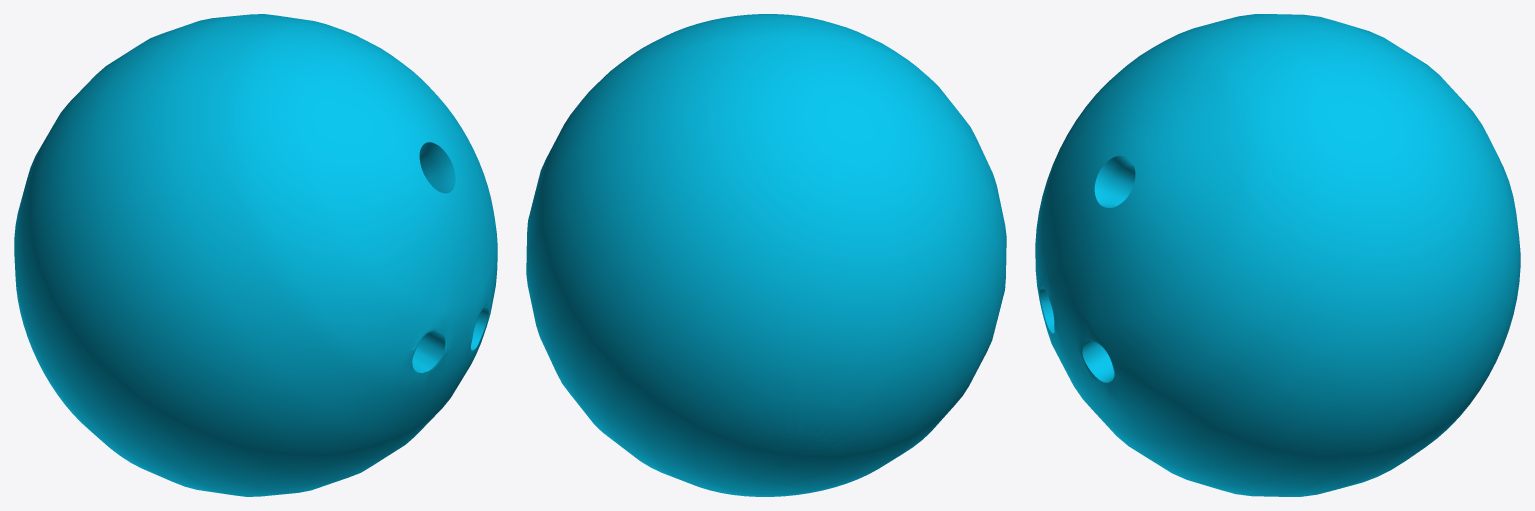
The model's file is Ball.FBX.
The picture shows the model from 3 angles, left to right: view 1: azimuth 30°, elevation 25°; view 2: azimuth 150°, elevation 25°; view 3: azimuth 270°, elevation 25°; orthographic projection.
Visible parts, largest first — view 1: ball__1_; view 2: ball__1_; view 3: ball__1_.
Part boxes in pixels (x1,y1,x2,y2): ball__1_: (14,14,497,496); ball__1_: (526,14,1006,496); ball__1_: (1035,14,1520,496).
Size of the model in its own units: 101 by 102 by 102.
